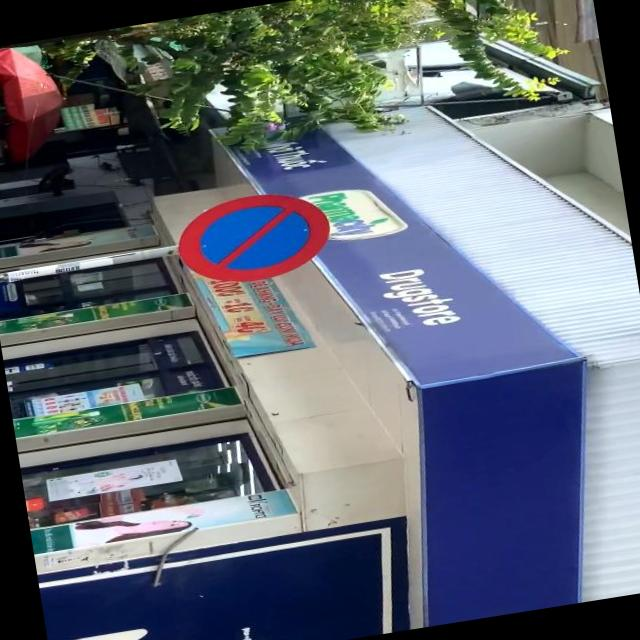P-131a: (172, 187, 336, 292)
